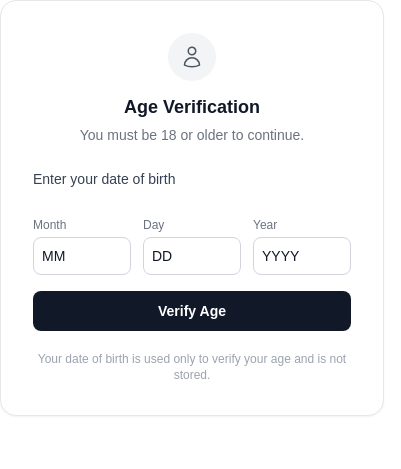
Test case: AgeGate — error clears on input change › clears the error message when the user changes any dropdown after a failed submit
Click the button "Verify Age": (192, 311) [33,291,351,331]
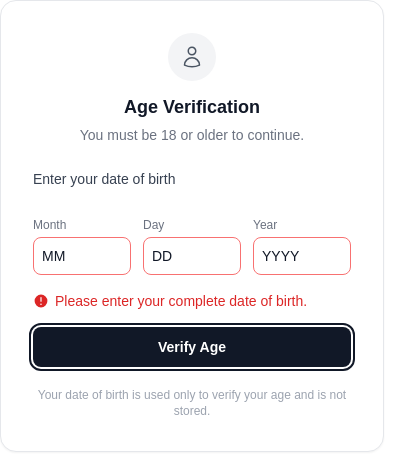
Now the message "Please enter your complete date of birth." is shown, box [33,291,351,311]
Select "January" in the dropdown labelled "Month": (82, 256) [33,237,131,275]
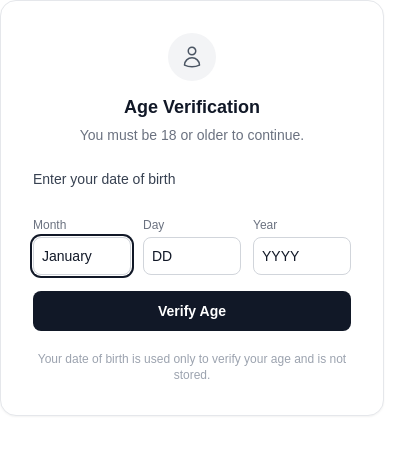
Now the message "Please enter your complete date of birth." is gone
